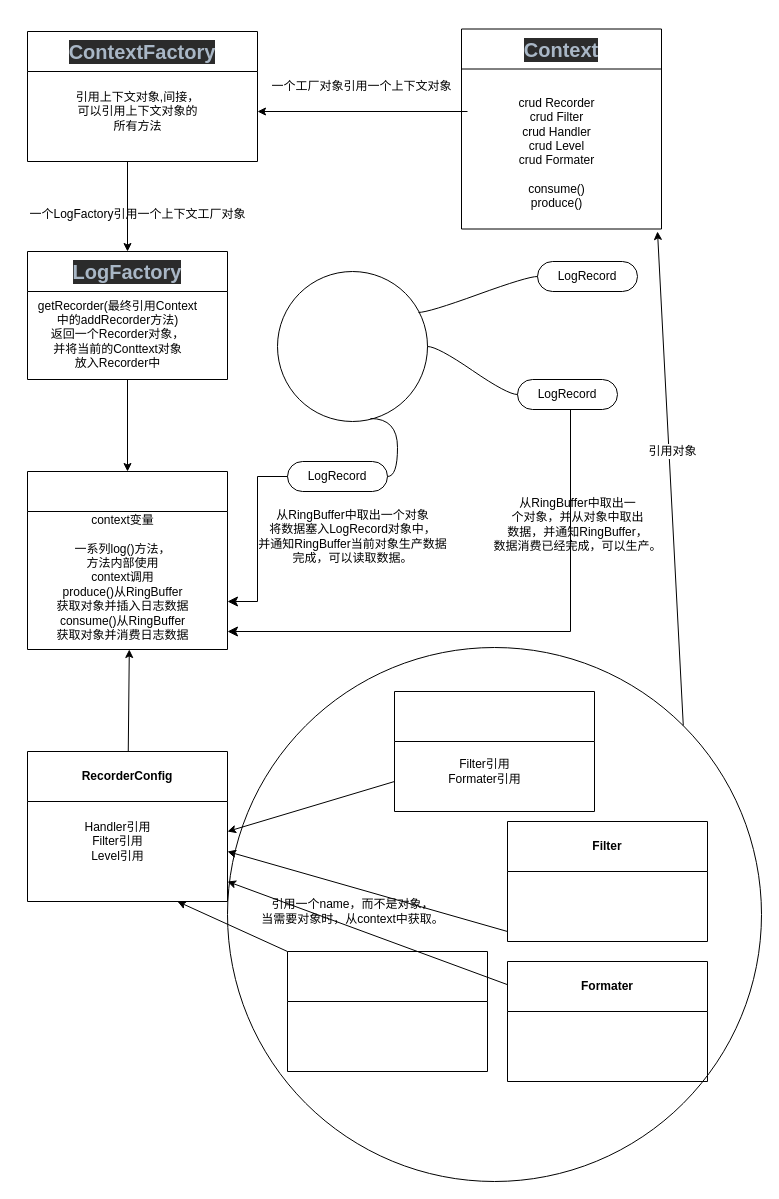
Some shapes in this 779 by 1199 pixel diagram are drawn without their labels. Each missing label, with the box of its shape:
Handler: (394, 690, 594, 812)
Level: (286, 950, 488, 1072)
Recorder: (26, 470, 228, 650)
RingBuffer: (276, 270, 428, 422)
